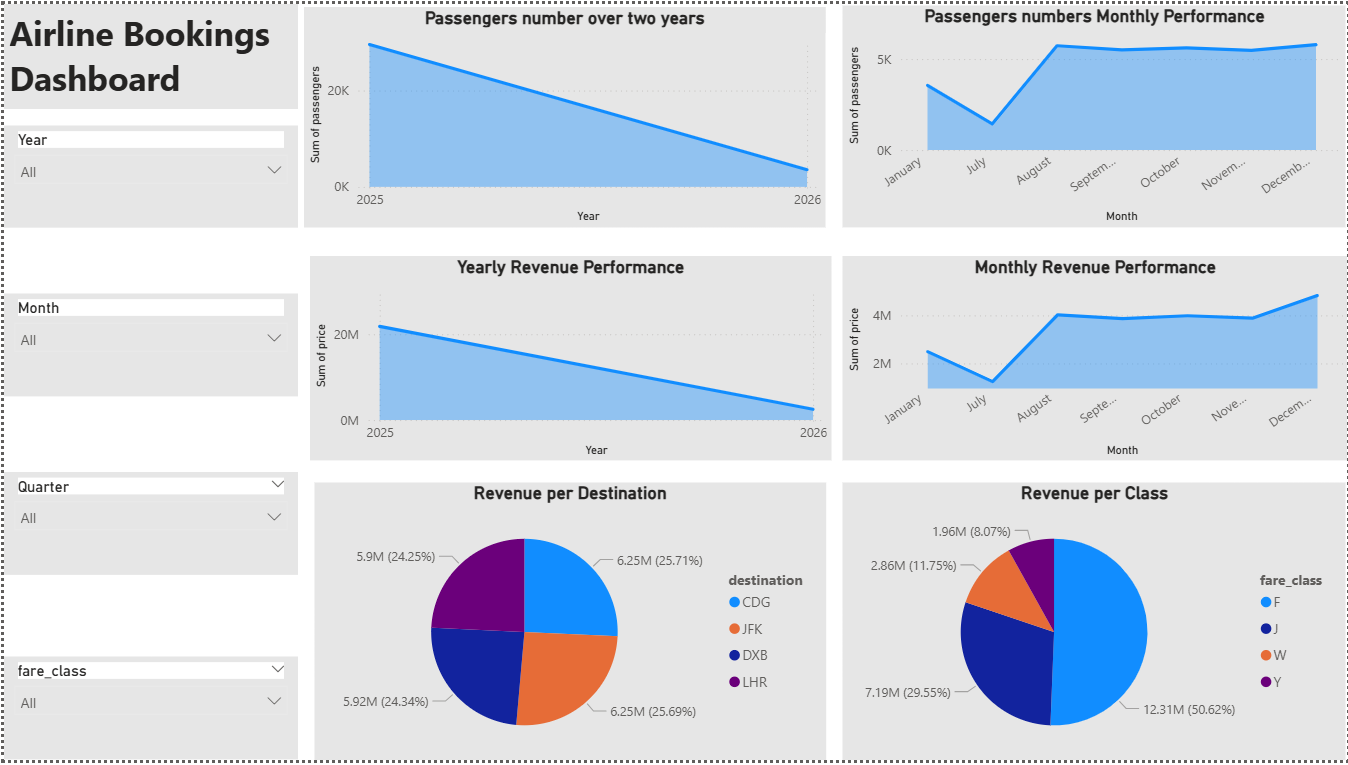

The page's visual inventory and layout, read from the dashboard file:
{"tool":"powerbi","page":{"name":"Dashboard","canvas":[1280,720],"ordinal":0},"visuals":[{"type":"textbox","box":[0,0,279.7,100.2],"z":0},{"type":"slicer","fields":{"Values":["bookings_data.flight_date.Variation.Date Hierarchy.Year"]},"box":[0,115.3,280,97.4],"z":1000},{"type":"slicer","fields":{"Values":["bookings_data.fare_class"]},"box":[0,621.7,279.7,98.3],"z":2000},{"type":"slicer","fields":{"Values":["bookings_data.flight_date.Variation.Date Hierarchy.Month"]},"box":[0,275.9,279.7,98.3],"z":3000},{"type":"stackedAreaChart","title":"Passengers number over two years","fields":{"Category":["bookings_data.flight_date.Variation.Date Hierarchy.Year"],"Y":["Sum(bookings_data.passengers)"]},"box":[285.4,2.7,496.8,210],"z":4000},{"type":"stackedAreaChart","title":"Passengers numbers Monthly Performance","fields":{"Category":["bookings_data.flight_date.Variation.Date Hierarchy.Month"],"Y":["Sum(bookings_data.passengers)"]},"box":[798.7,1.4,480.3,211.3],"z":5000},{"type":"slicer","fields":{"Values":["bookings_data.flight_date.Variation.Date Hierarchy.Quarter"]},"box":[0,446,279.7,98.3],"z":6000},{"type":"stackedAreaChart","title":"Yearly Revenue Performance","fields":{"Category":["bookings_data.flight_date.Variation.Date Hierarchy.Year"],"Y":["Sum(bookings_data.price)"]},"box":[290.9,240.2,496.8,194.9],"z":7000},{"type":"stackedAreaChart","title":"Monthly Revenue Performance","fields":{"Category":["bookings_data.flight_date.Variation.Date Hierarchy.Month"],"Y":["Sum(bookings_data.price)"]},"box":[798.7,240.2,481.7,194.9],"z":7001},{"type":"pieChart","title":"Revenue per Destination","fields":{"Category":["bookings_data.destination"],"Y":["Sum(bookings_data.price)"]},"box":[295.1,455.6,487.2,264.9],"z":7002},{"type":"pieChart","title":"Revenue per Class","fields":{"Category":["bookings_data.fare_class"],"Y":["Sum(bookings_data.price)"]},"box":[798.7,455.6,480.3,264.9],"z":7003}]}

Visuals, with their boxes in screenshot pixels (x1, y1, x2, y2), scaled from the page's 1280x720 canvas onto the 1348x765 screenshot:
textbox: left=0, top=0, right=295, bottom=106
slicer - bookings_data.flight_date.Variation.Date Hierarchy.Year: left=0, top=123, right=295, bottom=226
slicer - bookings_data.fare_class: left=0, top=661, right=295, bottom=764
slicer - bookings_data.flight_date.Variation.Date Hierarchy.Month: left=0, top=293, right=295, bottom=398
"Passengers number over two years" stackedAreaChart: left=301, top=3, right=824, bottom=226
"Passengers numbers Monthly Performance" stackedAreaChart: left=841, top=1, right=1347, bottom=226
slicer - bookings_data.flight_date.Variation.Date Hierarchy.Quarter: left=0, top=474, right=295, bottom=578
"Yearly Revenue Performance" stackedAreaChart: left=306, top=255, right=830, bottom=462
"Monthly Revenue Performance" stackedAreaChart: left=841, top=255, right=1347, bottom=462
"Revenue per Destination" pieChart: left=311, top=484, right=824, bottom=764
"Revenue per Class" pieChart: left=841, top=484, right=1347, bottom=764
